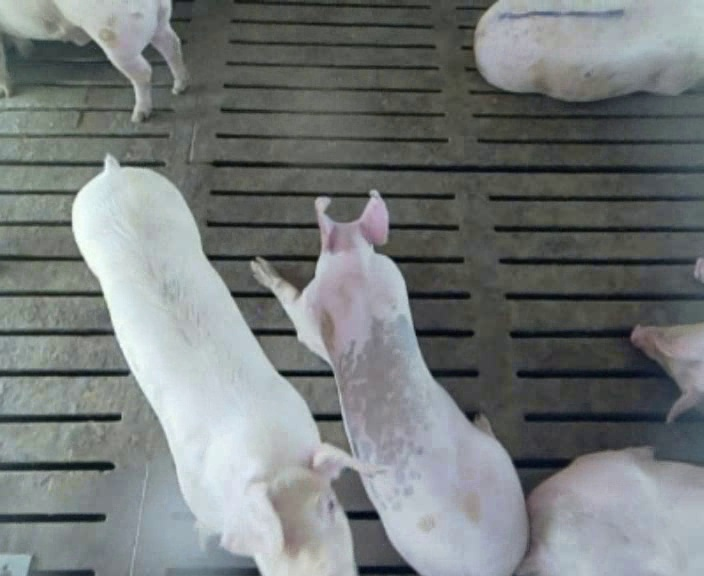pig: (73, 156, 383, 574), (516, 447, 703, 574), (474, 2, 703, 101), (631, 323, 703, 422)
